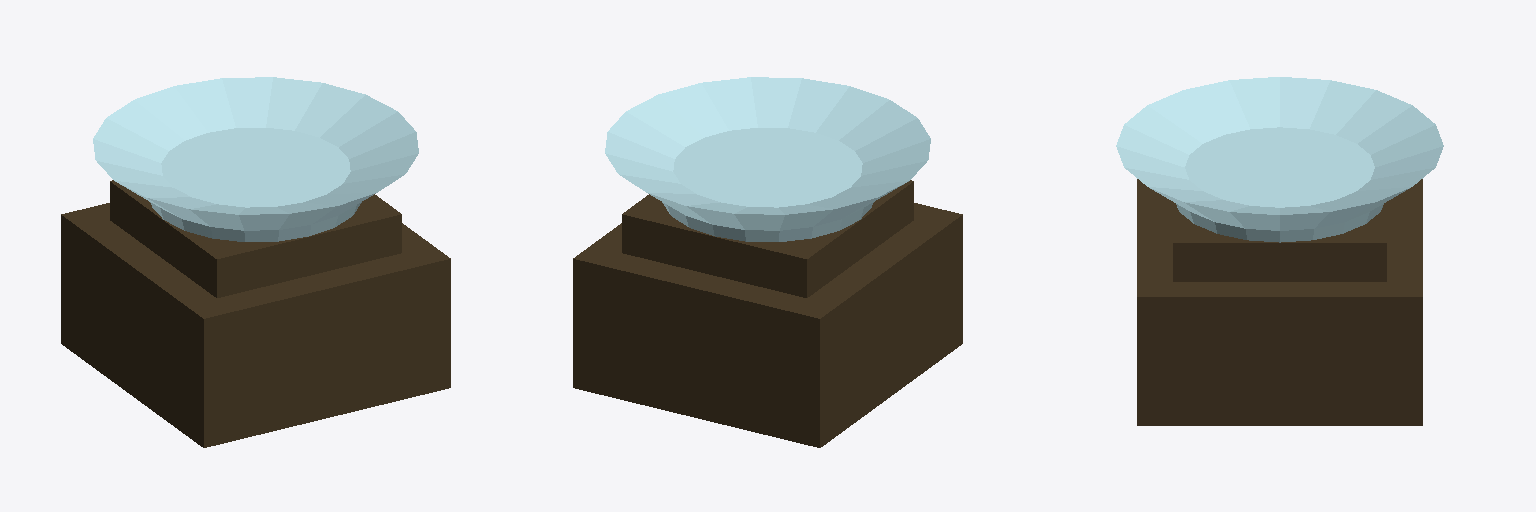
3 views of the same model, side by side, from view 1: azimuth 30°, elevation 25°; view 2: azimuth 150°, elevation 25°; view 3: azimuth 270°, elevation 25° (orthographic).
Visible parts, largest first — view 1: plate3:polySurface3; view 2: plate3:polySurface3; view 3: plate3:polySurface3.
Part boxes in pixels (x1,y1,x2,y2): plate3:polySurface3: (61,77,450,447); plate3:polySurface3: (573,77,962,447); plate3:polySurface3: (1116,77,1443,425).
Bounding box in the file's own units: 1.15 × 0.85 × 1.15.
Materials: 2 (2 with a texture image).